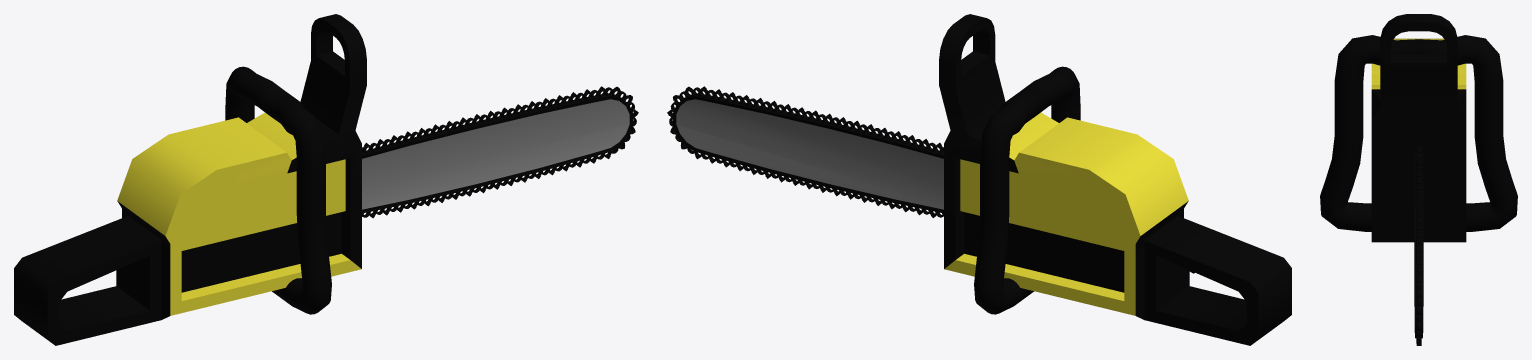
The model's file is Pila.fbx.
The picture shows the model from 3 angles, left to right: view 1: azimuth 30°, elevation 25°; view 2: azimuth 150°, elevation 25°; view 3: azimuth 270°, elevation 25°; orthographic projection.
Parts seen in each view (by area): view 1: Cube, Cylinder, Cube.001; view 2: Cube, Cylinder, Cube.001; view 3: Cube, Cylinder, Cube.001.
Boxes of the visible parts, x1,y1,x2,y2 form: Cube: [14, 14, 633, 345]; Cylinder: [225, 66, 331, 314]; Cube.001: [362, 86, 638, 218]; Cube: [672, 14, 1291, 345]; Cylinder: [974, 66, 1080, 314]; Cube.001: [667, 86, 943, 217]; Cube: [1371, 14, 1466, 338]; Cylinder: [1320, 35, 1517, 231]; Cube.001: [1416, 146, 1421, 345].
Bounding box in the file's own units: 928 × 364 × 267.
